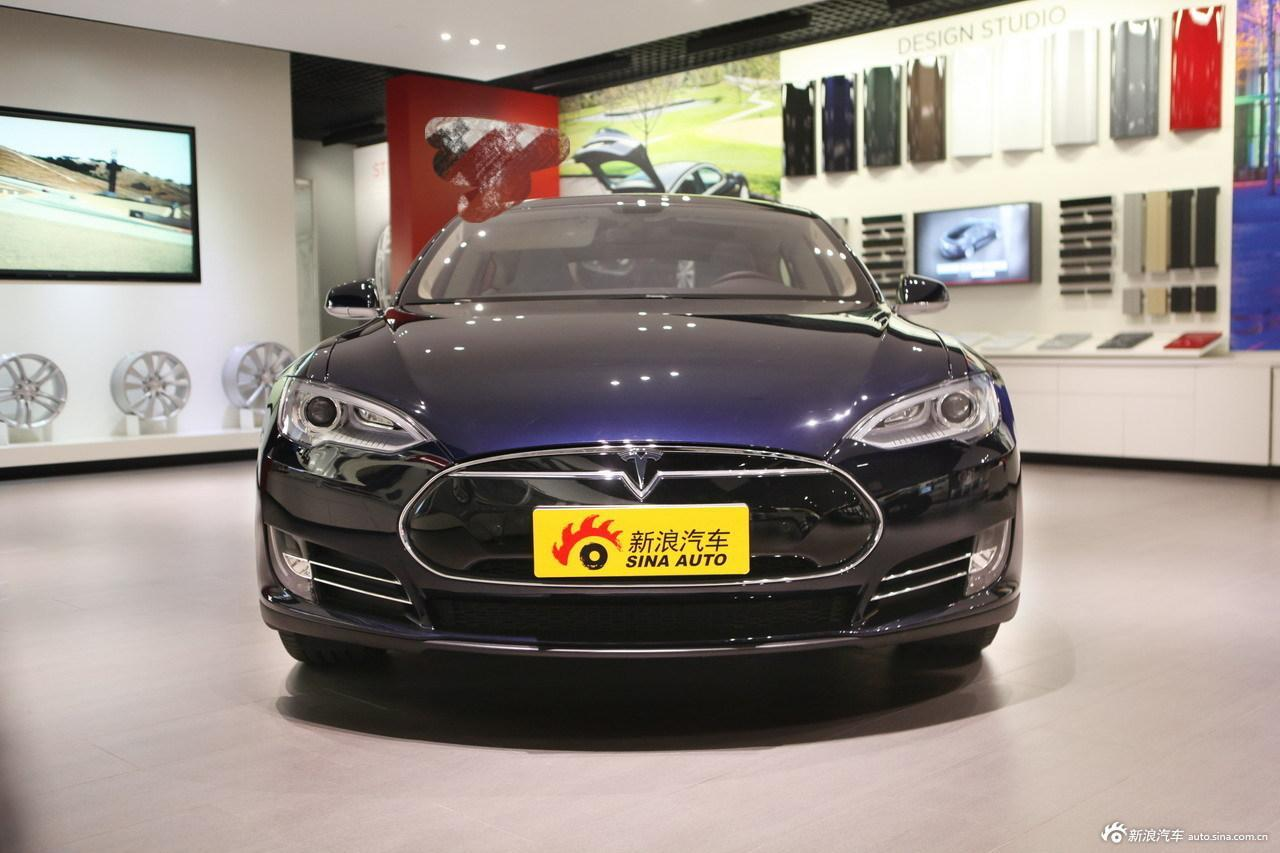Tesla: (616, 446, 664, 489)
